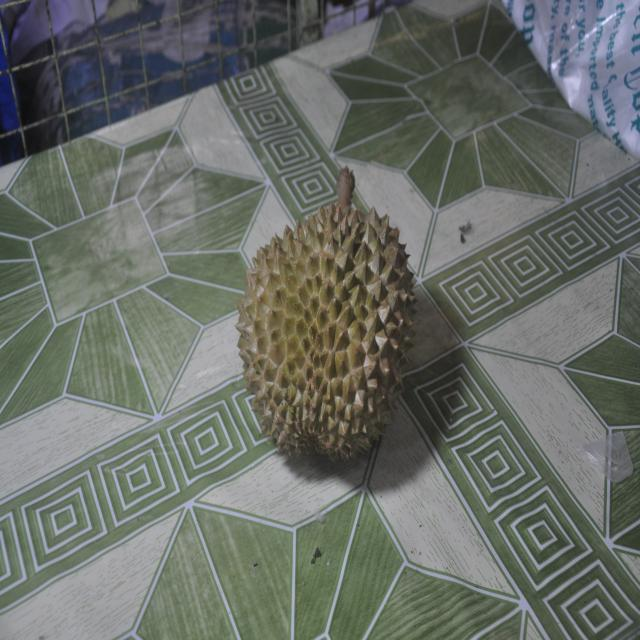mature: (236, 166, 415, 460)
